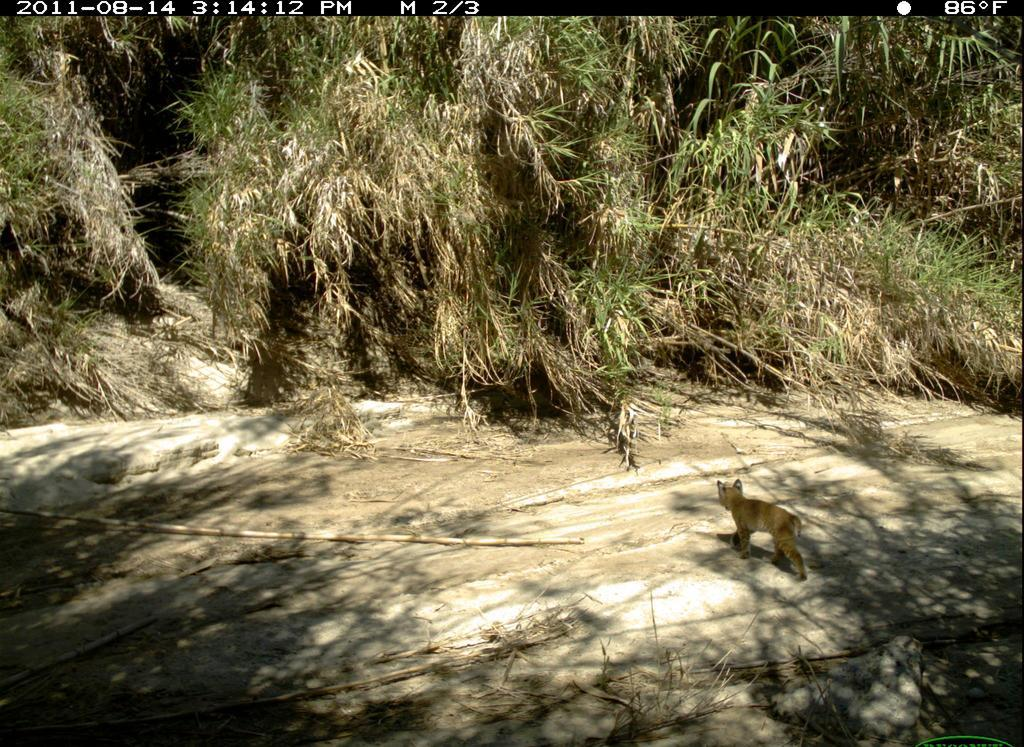bobcat: (708, 470, 816, 578)
